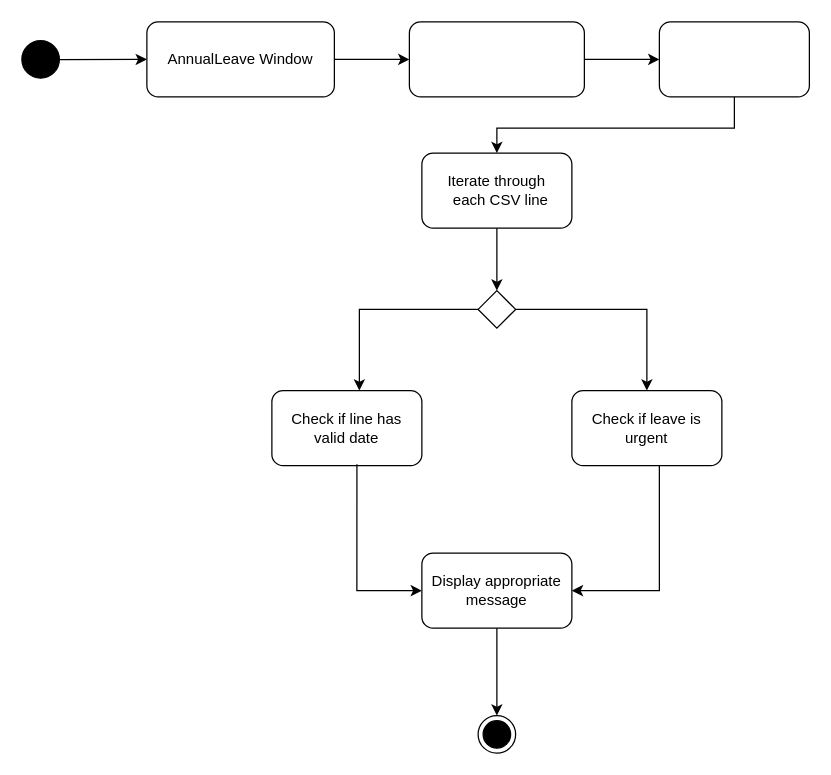
The diagram is 831 pixels wide and 775 high, and some of its shapes have lost their labels. Here are the shapes that lost their labels. From the top down, the centre of each, then its label:
At point (496, 59): "CheckTimelineButton".
At point (733, 59): "Read CSV".
